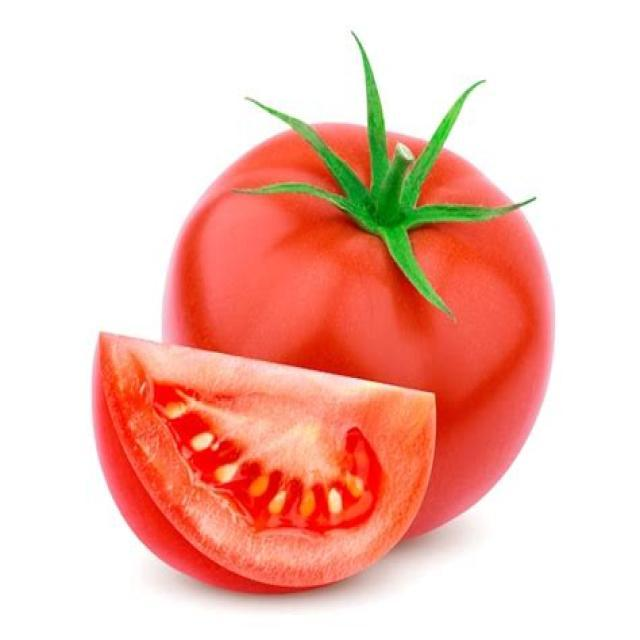Tomato: (92, 48, 556, 597)
